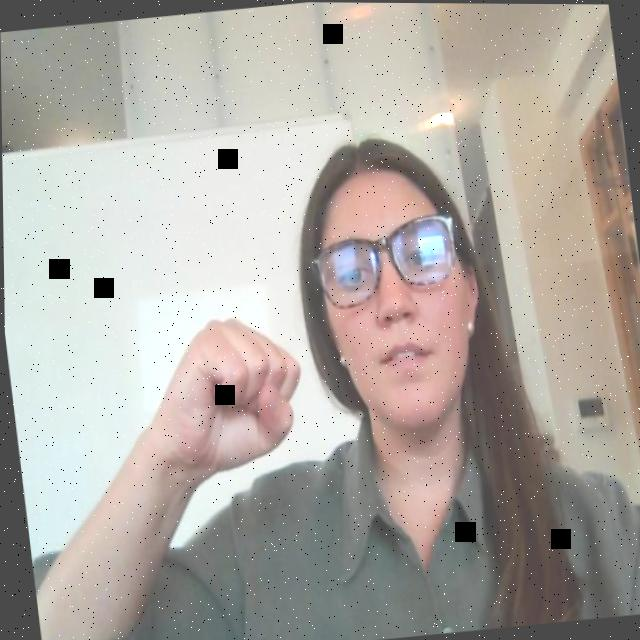Rock: (129, 295, 326, 513)
